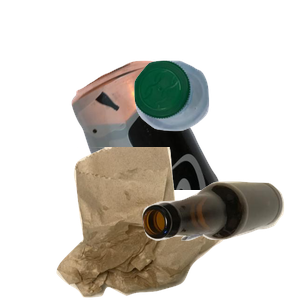glass: (140, 179, 300, 300)
metal: (69, 58, 300, 238)
plastic: (132, 58, 300, 182)
trash: (54, 147, 271, 300)
